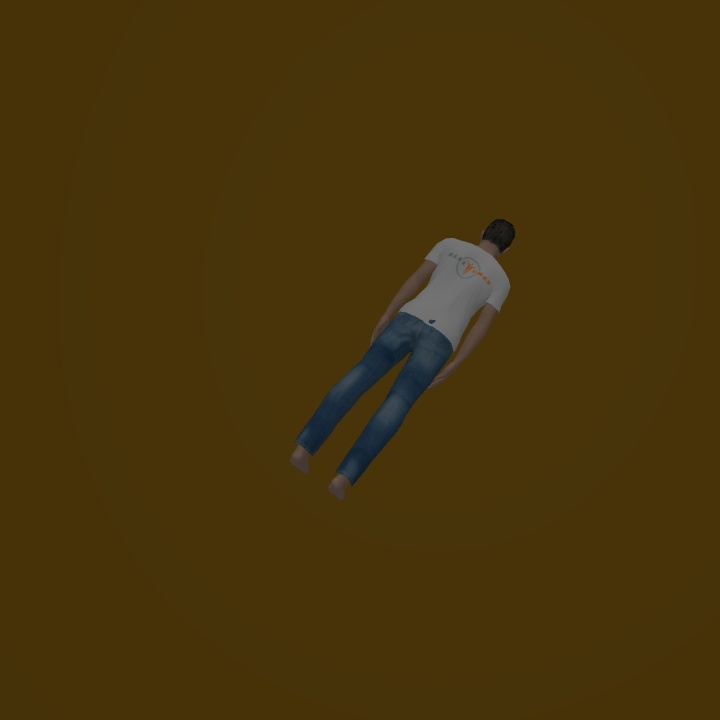victim: (290, 214, 521, 501)
